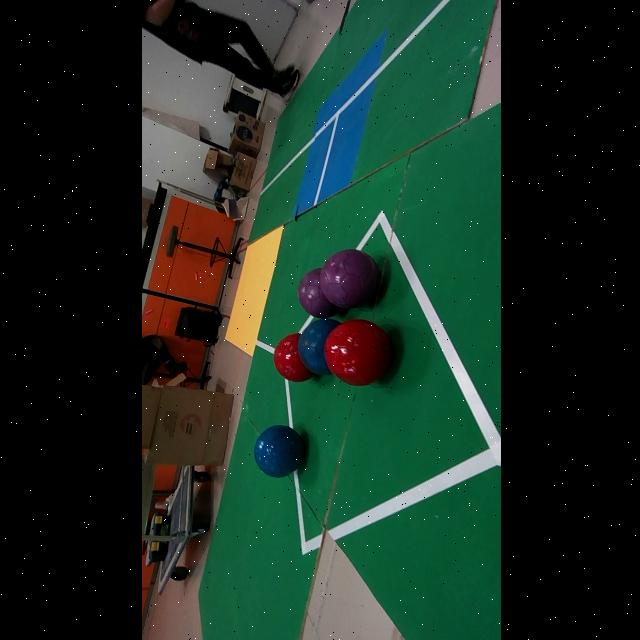B: (253, 426, 303, 477), (298, 319, 337, 375)
P: (319, 249, 379, 308), (296, 268, 340, 318)
R: (323, 319, 391, 386), (271, 333, 313, 382)
